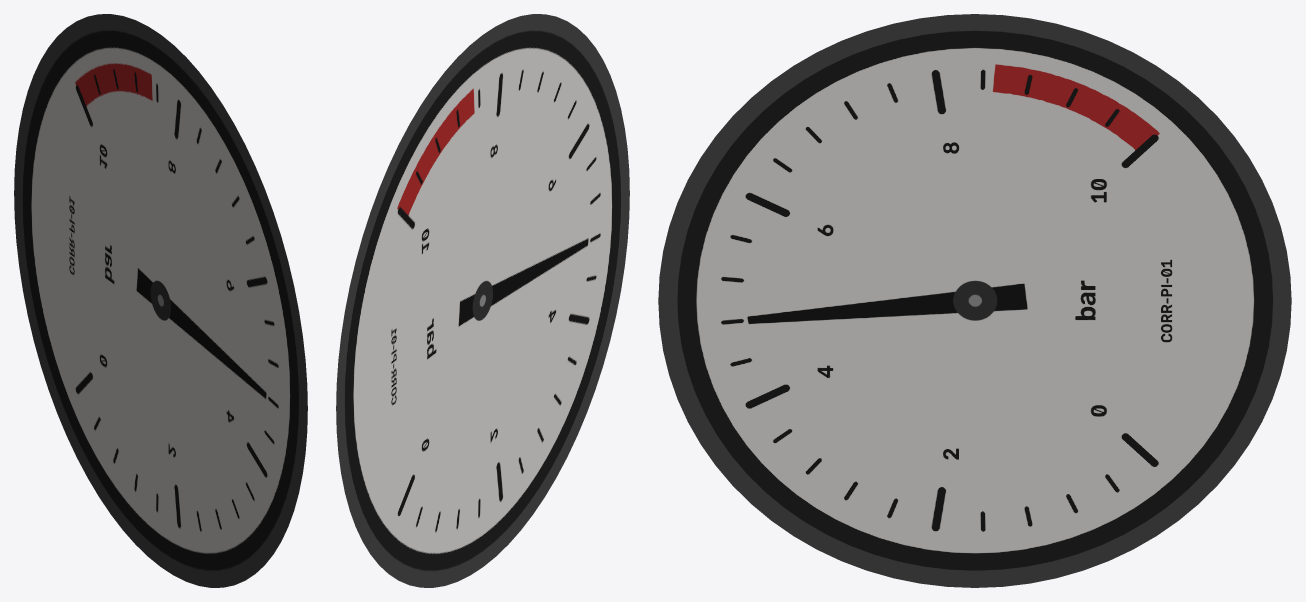
The model's file is dial.obj.
3 renders of one model, left to right at view 1: azimuth 30°, elevation 25°; view 2: azimuth 150°, elevation 25°; view 3: azimuth 270°, elevation 25°, orthographic. The views are drawn at different scales.
Visible parts, largest first — view 1: gauge_g07_dial; view 2: gauge_g07_dial; view 3: gauge_g07_dial.
Boxes of the visible parts, x1,y1,x2,y2 form: gauge_g07_dial: [14, 14, 307, 587]; gauge_g07_dial: [336, 14, 629, 587]; gauge_g07_dial: [658, 14, 1291, 587].
Bounding box in the file's own units: 0 × 0.3 × 0.3.
1 material, 1 textured.
